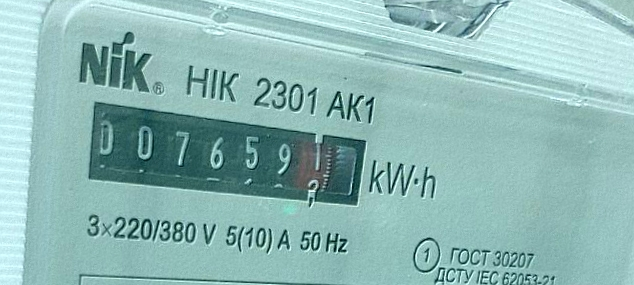0: (131, 121, 157, 163), (93, 116, 117, 158)
1: (308, 141, 327, 175)
5: (240, 133, 262, 172)
6: (205, 132, 228, 172)
7: (170, 128, 191, 169)
9: (274, 141, 292, 178)
screen: (77, 93, 375, 225)
